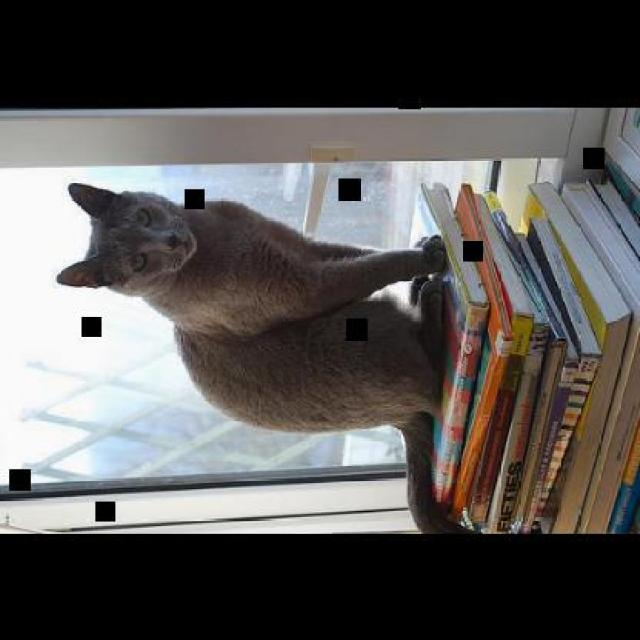unauthorized: (55, 180, 472, 534)
